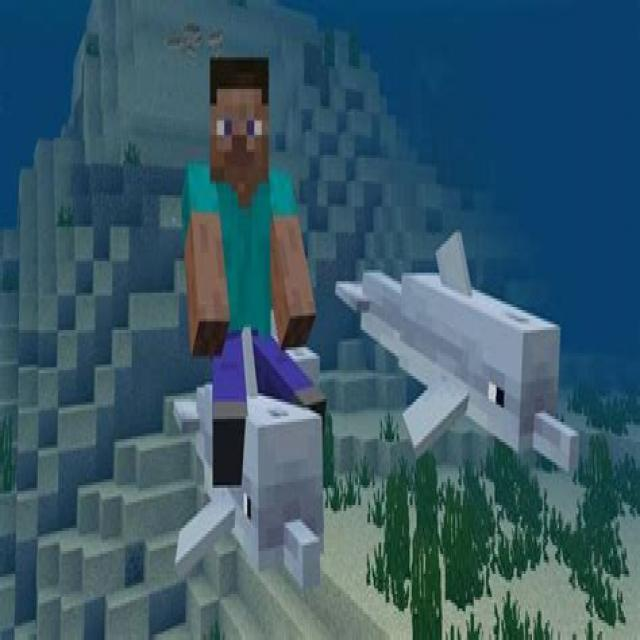Dolphin: (331, 224, 582, 482), (162, 317, 325, 599)
